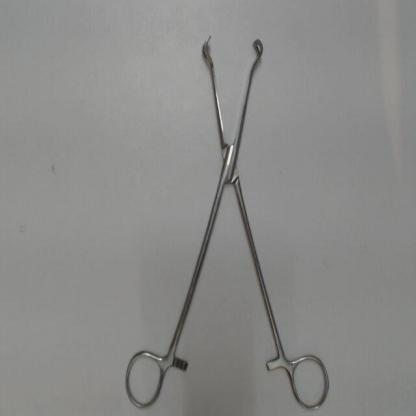8 Babcock Tissue Forceps: (116, 32, 336, 414)
